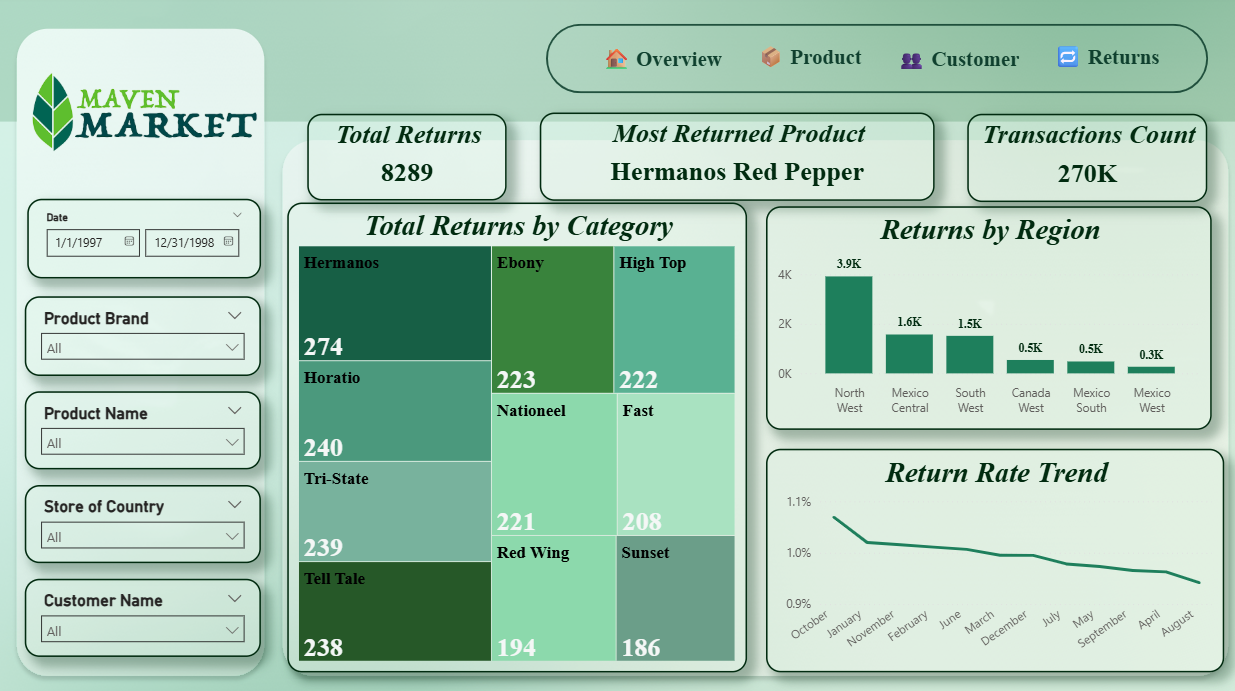

This screenshot's page, from the dashboard's own definition file:
{"tool":"powerbi","page":{"name":"Returns","canvas":[1280,720],"ordinal":4},"visuals":[{"type":"shape","box":[563.2,29,677.3,71.2],"z":0},{"type":"actionButton","box":[613.7,44.1,135,41.7],"z":1000},{"type":"actionButton","box":[768.6,42.7,126.6,40.3],"z":2000},{"type":"actionButton","box":[915.1,44.1,137.7,41.7],"z":3000},{"type":"actionButton","box":[1072.8,42.7,126.6,40.3],"z":4000},{"type":"card","title":"Total Returns","fields":{"Values":["Measure.Total Returns"]},"box":[318.1,121.4,204.4,89.1],"z":5000},{"type":"card","title":"Most Returned Product","fields":{"Values":["Measure.Most Returned Product"]},"box":[556.3,119.9,404.1,90.7],"z":6000},{"type":"card","title":"Transactions Count","fields":{"Values":["Measure.Transactions Count"]},"box":[994.2,121.4,245.9,90.7],"z":7000},{"type":"lineChart","title":"Return Rate Trend","fields":{"Category":["Dim_Calendar.Month Name"],"Y":["Measure.Return Rate %"]},"box":[788.3,464.1,468.7,229],"z":8000},{"type":"clusteredColumnChart","title":"Returns by Region","fields":{"Category":["Dim_Regions.sales_region"],"Y":["Measure.Total Returns"]},"box":[788.3,216.7,456.4,229],"z":9000},{"type":"treemap","title":"Total Returns by Category","fields":{"Group":["Dim_Products.product_brand"],"Values":["Measure.Total Returns"]},"box":[298.1,212.1,470.2,481],"z":10000},{"type":"image","box":[30.6,43.1,240.7,151.7],"z":11000},{"type":"slicer","fields":{"Values":["Dim_Products.product_brand"]},"box":[29.2,308.1,241.2,81.4],"z":12000},{"type":"slicer","fields":{"Values":["Dim_Products.product_name"]},"box":[29.2,405.7,241.2,79.9],"z":13000},{"type":"slicer","fields":{"Values":["Dim_Stores.store_country"]},"box":[29.2,501.7,241.2,79.9],"z":14000},{"type":"slicer","fields":{"Values":["Dim_Customers.Full Name"]},"box":[29.2,597.7,241.2,79.9],"z":15000},{"type":"slicer","fields":{"Values":["Dim_Calendar.date"]},"box":[32,208.4,239.1,81.8],"z":16000}]}

Visuals, with their boxes in screenshot pixels (x1, y1, x2, y2), scaled from the page's 1280x720 canvas onto the 1235x691 screenshot:
shape: Rect(543, 28, 1197, 96)
actionButton: Rect(592, 42, 722, 82)
actionButton: Rect(742, 41, 864, 80)
actionButton: Rect(883, 42, 1016, 82)
actionButton: Rect(1035, 41, 1157, 80)
"Total Returns" card: Rect(307, 117, 504, 202)
"Most Returned Product" card: Rect(537, 115, 927, 202)
"Transactions Count" card: Rect(959, 117, 1197, 204)
"Return Rate Trend" lineChart: Rect(761, 445, 1213, 665)
"Returns by Region" clusteredColumnChart: Rect(761, 208, 1201, 428)
"Total Returns by Category" treemap: Rect(288, 204, 741, 665)
image: Rect(30, 41, 262, 187)
slicer - Dim_Products.product_brand: Rect(28, 296, 261, 374)
slicer - Dim_Products.product_name: Rect(28, 389, 261, 466)
slicer - Dim_Stores.store_country: Rect(28, 481, 261, 558)
slicer - Dim_Customers.Full Name: Rect(28, 574, 261, 650)
slicer - Dim_Calendar.date: Rect(31, 200, 262, 279)
